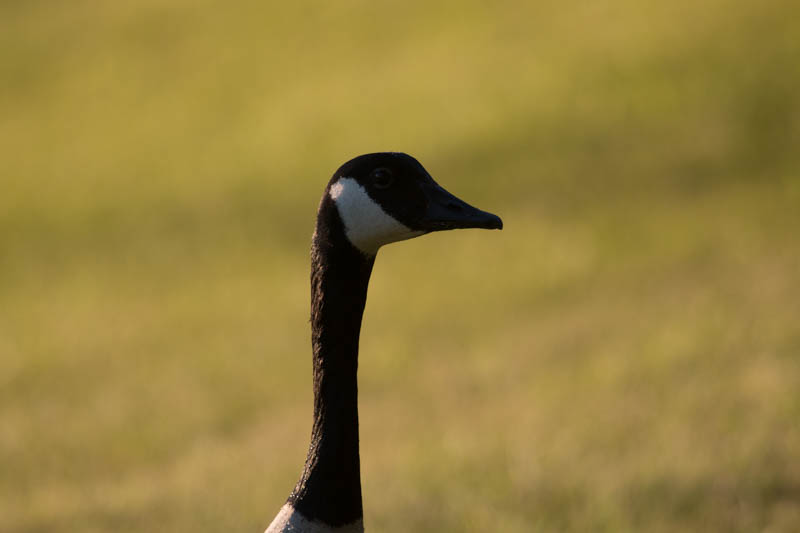goose-head: (310, 153, 504, 258)
